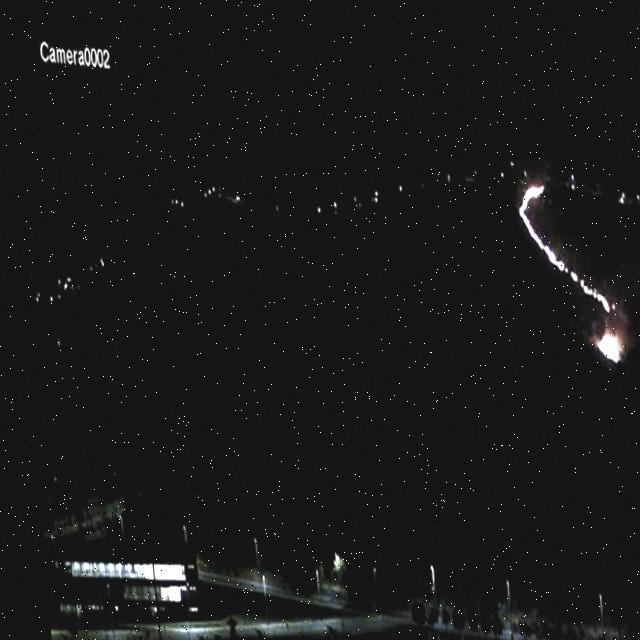Fire: (506, 166, 613, 300), (586, 302, 628, 356)
